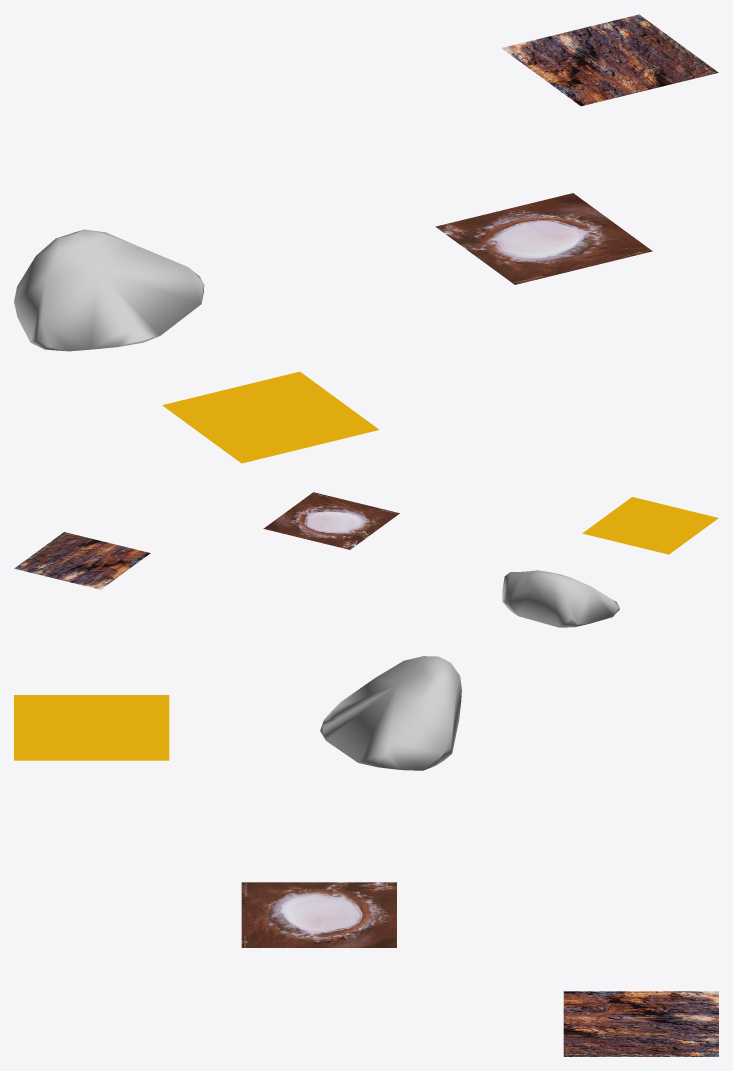
The model's file is all_features.obj.
The picture shows the model from 3 angles, top to bottom: view 1: azimuth 30°, elevation 25°; view 2: azimuth 150°, elevation 25°; view 3: azimuth 270°, elevation 25°; orthographic projection. The views are drawn at different scales.
Visible parts, largest first — view 1: Mars_rock.001, red-oxide, home, ice; view 2: Mars_rock.001, red-oxide, home, ice; view 3: Mars_rock.001, ice, red-oxide, home.
Part boxes in pixels (x1,y1,x2,y2): Mars_rock.001: [14, 229, 204, 351]; red-oxide: [501, 14, 718, 106]; home: [162, 371, 379, 463]; ice: [435, 193, 652, 284]; Mars_rock.001: [502, 570, 619, 627]; red-oxide: [14, 532, 150, 589]; home: [582, 497, 718, 554]; ice: [263, 492, 399, 549]; Mars_rock.001: [320, 656, 461, 770]; ice: [241, 882, 396, 947]; red-oxide: [563, 991, 718, 1056]; home: [14, 695, 169, 760].
Bounding box in the file's own units: 6.79 × 0.6142 × 5.45.
5 materials, 2 textured.
